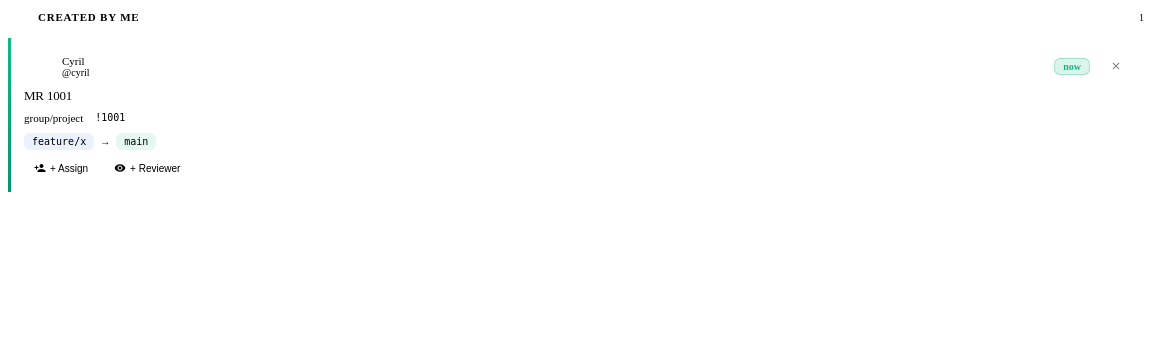
it: MergeRequestsTab › filters the member picker by name/username search
Click the button "+ Assign" at (61, 168), box [24,158,98,178]
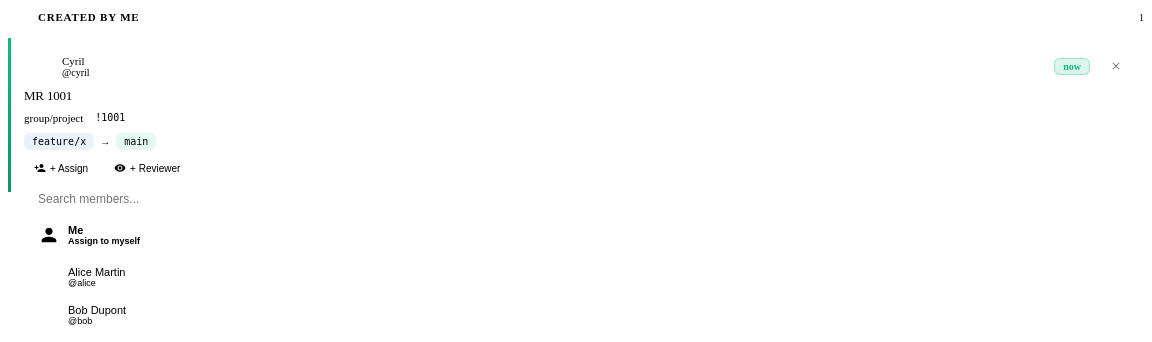
expect the text "Alice Martin" is shown: met, box [68,266,126,278]
expect the text "Bob Dupont" is shown: met, box [68,304,126,316]
Type "ali" into the field with placeholder "Search members..." at (148, 199), box [28,186,268,212]
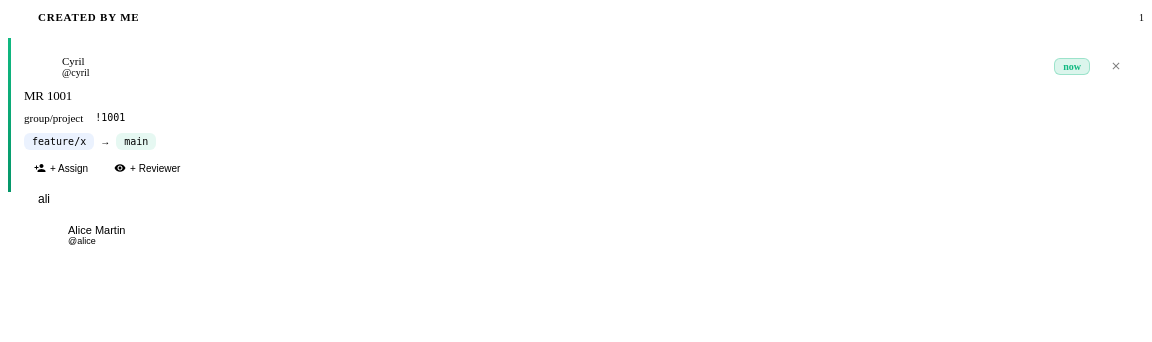
expect the text "Alice Martin" is shown: met, box [68,224,126,236]
expect the button "Bob Dupont" is gone: met
